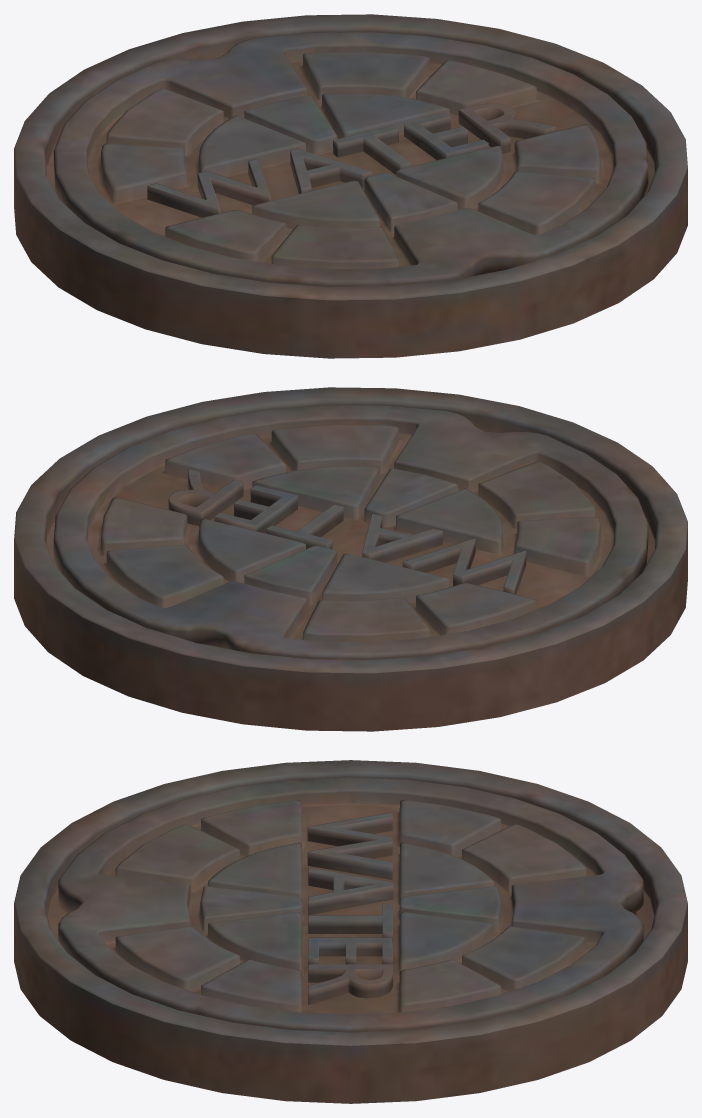
The model's file is manhole.glb.
The picture shows the model from 3 angles, top to bottom: view 1: azimuth 30°, elevation 25°; view 2: azimuth 150°, elevation 25°; view 3: azimuth 270°, elevation 25°; orthographic projection.
Parts seen in each view (by area): view 1: water_manhole_cover, water_manhole_cover_frame; view 2: water_manhole_cover, water_manhole_cover_frame; view 3: water_manhole_cover, water_manhole_cover_frame.
Part boxes in pixels (x1=…): water_manhole_cover: x1=53, y1=32, x2=648, y2=286; water_manhole_cover_frame: x1=14, y1=14, x2=687, y2=358; water_manhole_cover: x1=53, y1=405, x2=648, y2=659; water_manhole_cover_frame: x1=14, y1=387, x2=687, y2=731; water_manhole_cover: x1=58, y1=777, x2=643, y2=1032; water_manhole_cover_frame: x1=14, y1=760, x2=687, y2=1103.
Bounding box in the file's own units: 0.6908 × 0.0676 × 0.6908.
Materials: 1 (1 with a texture image).
